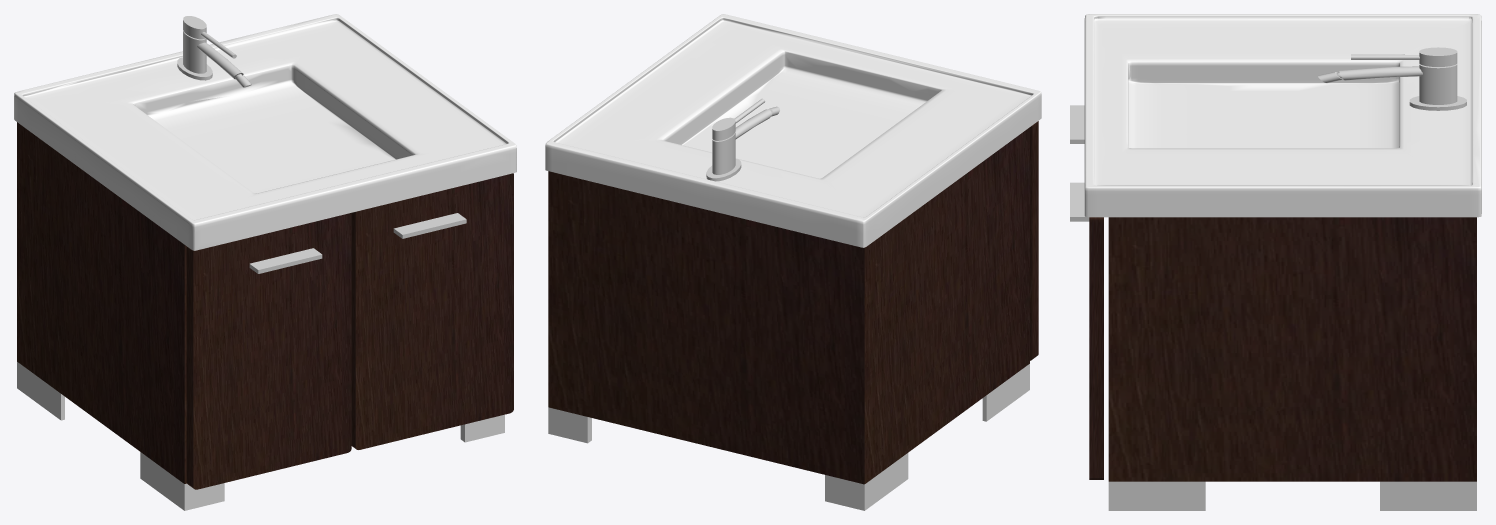
File: sh-lp-mobiletto-lavabo-wenge.glb
3 views of the same model, side by side, from view 1: azimuth 30°, elevation 25°; view 2: azimuth 150°, elevation 25°; view 3: azimuth 270°, elevation 25° (orthographic). The views are drawn at different scales.
Parts seen in each view (by area): view 1: Rectangle10_4, Rectangle09_9, Line04_2, Box02_1; view 2: Rectangle10_4, Rectangle09_9, Line04_2, Box02_1; view 3: Rectangle10_4, Rectangle09_9, Line04_2, Box02_1.
Part boxes in pixels (x1,y1,x2,y2): Rectangle10_4: (17, 122, 513, 489); Rectangle09_9: (14, 14, 516, 250); Line04_2: (17, 362, 504, 510); Box02_1: (177, 16, 466, 273); Rectangle10_4: (548, 121, 1038, 484); Rectangle09_9: (545, 14, 1041, 247); Line04_2: (548, 364, 1029, 510); Box02_1: (706, 98, 779, 181); Rectangle10_4: (1089, 217, 1476, 481); Rectangle09_9: (1084, 14, 1481, 217); Line04_2: (1108, 481, 1476, 510); Box02_1: (1070, 47, 1466, 221).
Size of the model in its own units: 1 by 1 by 1.
Materials: 4 (1 with a texture image).
